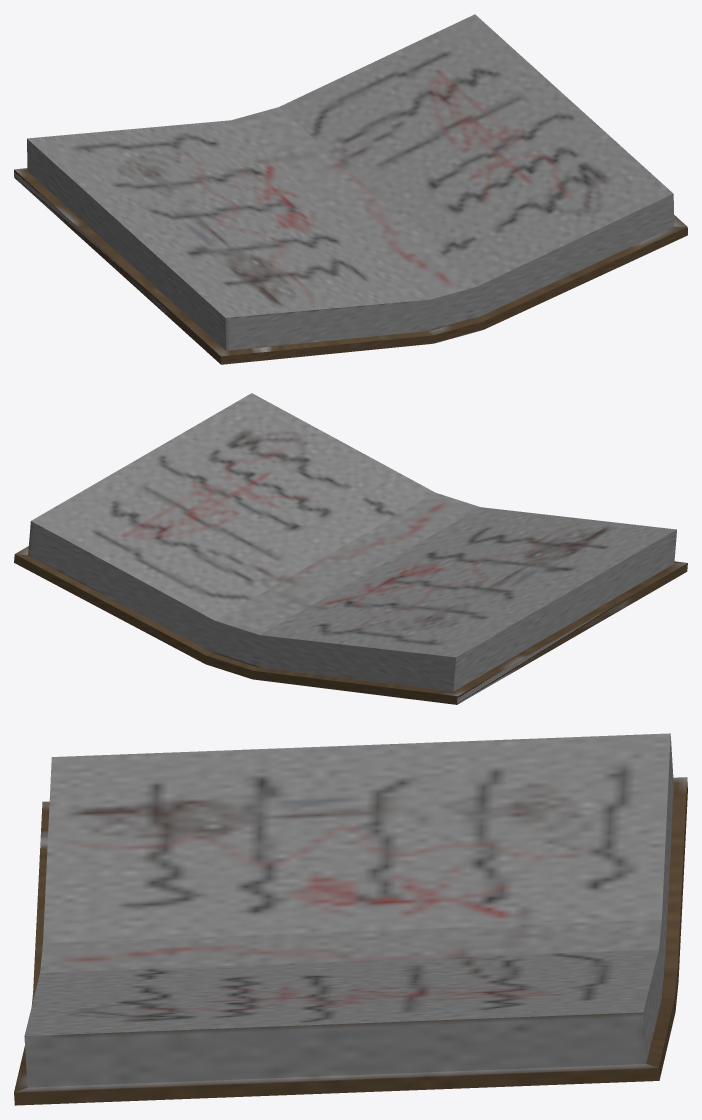
The model's file is libro.obj.
3 renders of one model, top to bottom at view 1: azimuth 30°, elevation 25°; view 2: azimuth 150°, elevation 25°; view 3: azimuth 270°, elevation 25°, orthographic. The views are drawn at different scales.
Parts seen in each view (by area): view 1: Cube.011_Cube.277; view 2: Cube.011_Cube.277; view 3: Cube.011_Cube.277.
Boxes of the visible parts, <box> form: Cube.011_Cube.277: <box>14,14,687,364</box>; Cube.011_Cube.277: <box>14,393,687,704</box>; Cube.011_Cube.277: <box>14,733,687,1105</box>.
Size of the model in its own units: 0.3302 by 0.0783 by 0.2792.
1 material, 1 textured.
